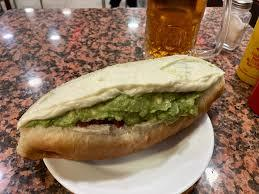Completos: (9, 39, 224, 173)
